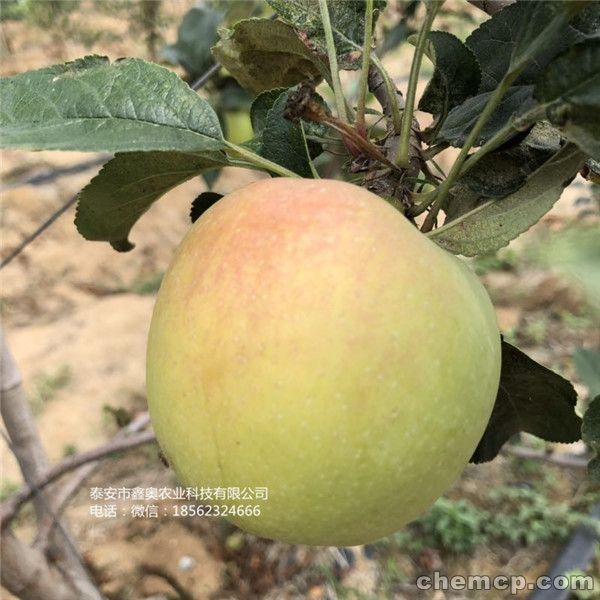apple: (139, 175, 503, 540)
